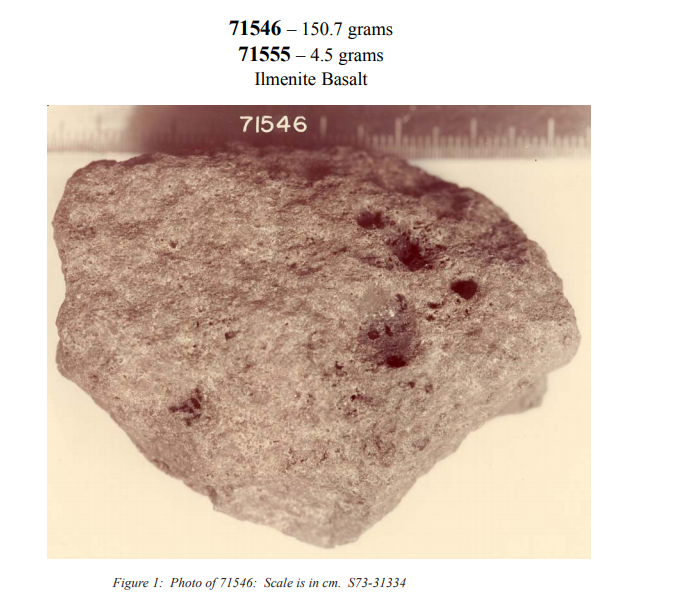Basalt: (54, 153, 580, 546)
